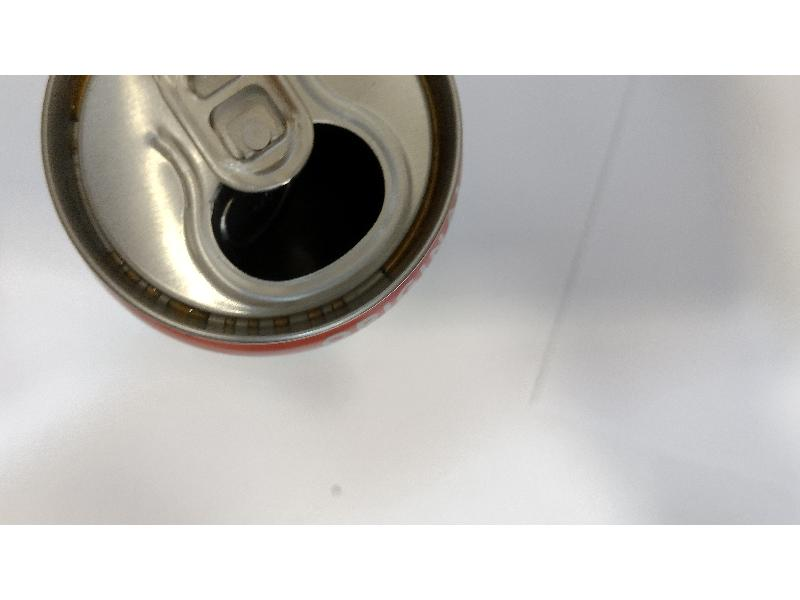can: (32, 74, 492, 359)
